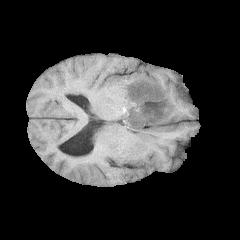glioma: (118, 72, 177, 131)
